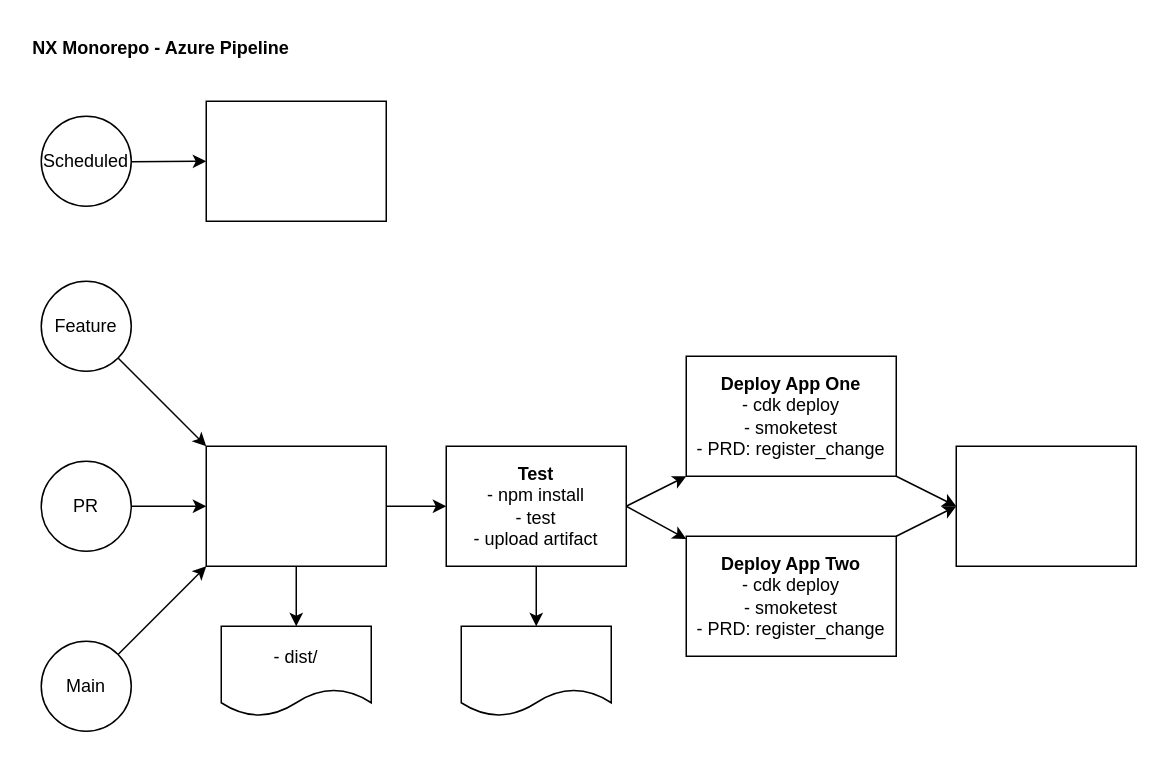
This 1163x758 diagram has some shape labels left out. The shapes that lost their labels are listed below. From the top down, each one's centre as x and y in pixels, then its label:
the point at 295,160: Analyse - security - performance - coverage - static
the point at 295,505: Build - npm install - build - upload artifact
the point at 1045,505: PRD: Version - version - git push
the point at 535,670: - results report - coverage report
